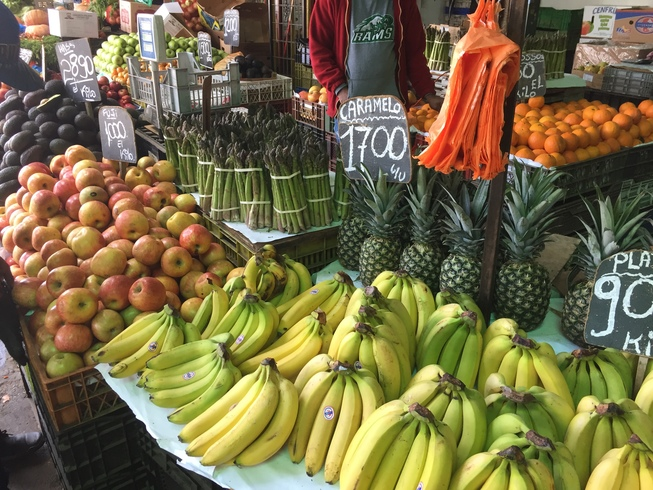precio: (334, 96, 413, 185), (586, 249, 653, 349), (54, 37, 104, 105), (98, 105, 138, 165), (513, 49, 548, 104)
